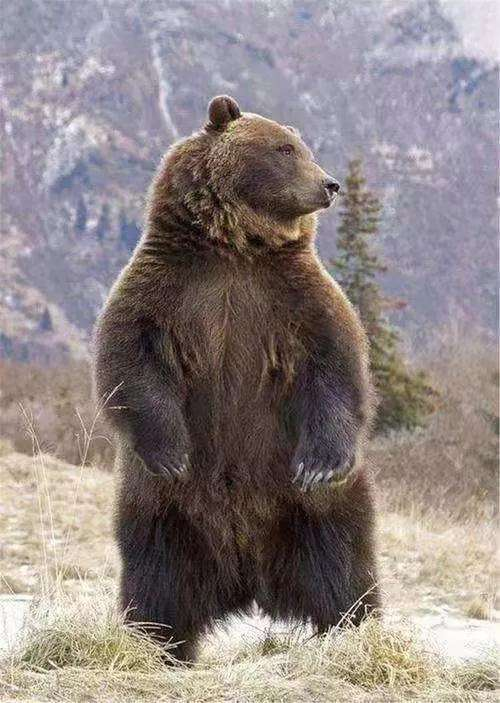bear: (79, 89, 409, 665)
